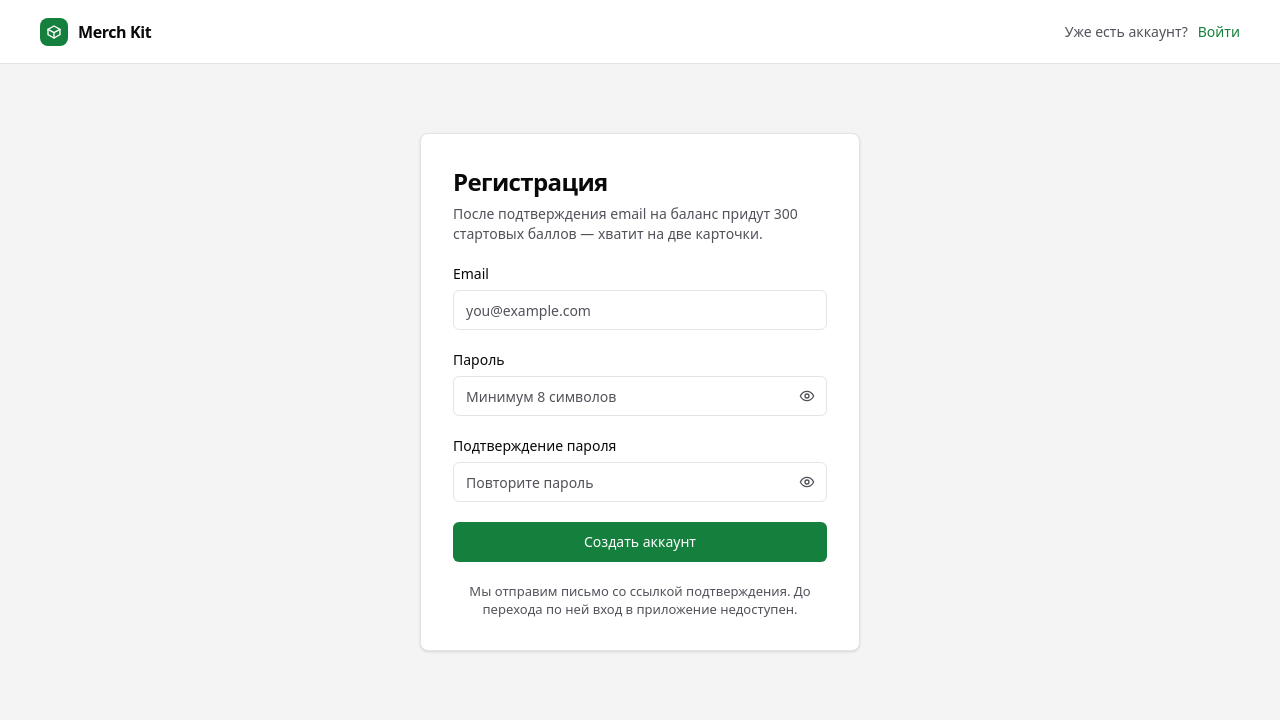
Test: Регистрация (US-02) › не отправляет форму, если подтверждение не совпадает с паролем
The width and height of the screenshot is (1280, 720).
Type "seller@example.com" into the field labelled "Email" at {"x": 640, "y": 310}, box [453,290,827,330]
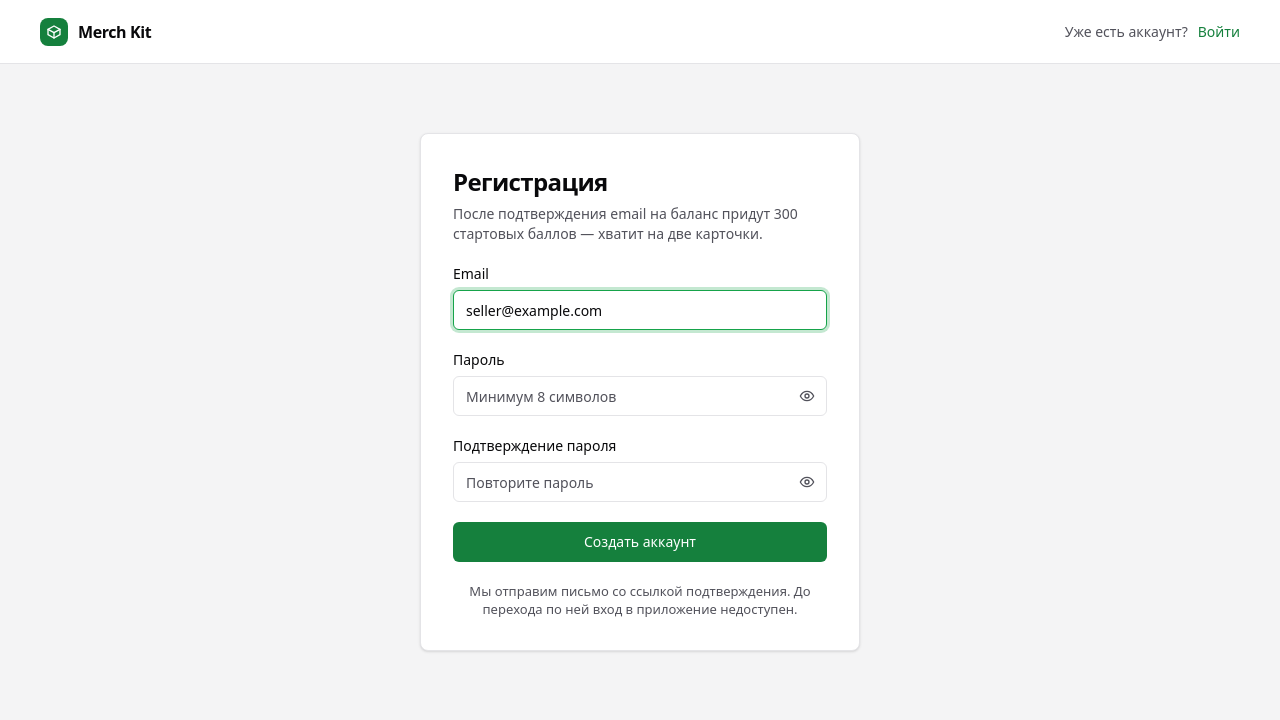
Type "password123" into the password field labelled "Пароль" at {"x": 640, "y": 396}, box [453,376,827,416]
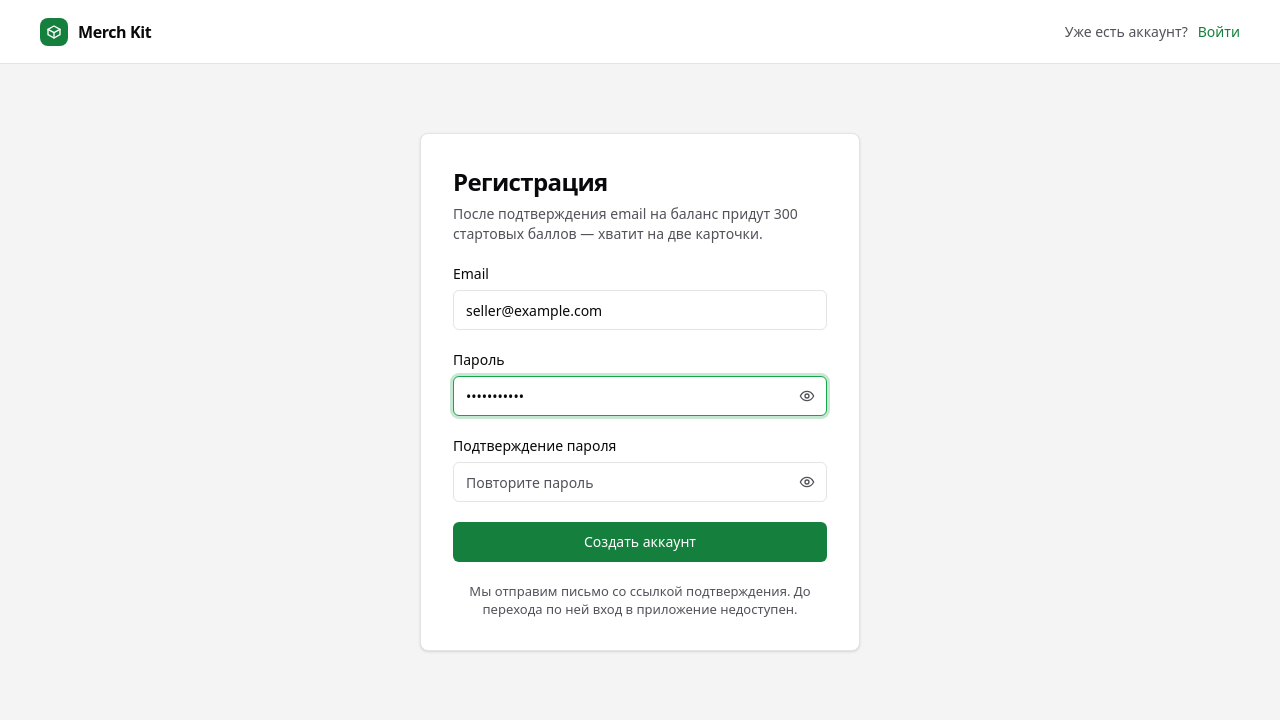
Type "password124" into the password field labelled "Подтверждение пароля" at {"x": 640, "y": 482}, box [453,462,827,502]
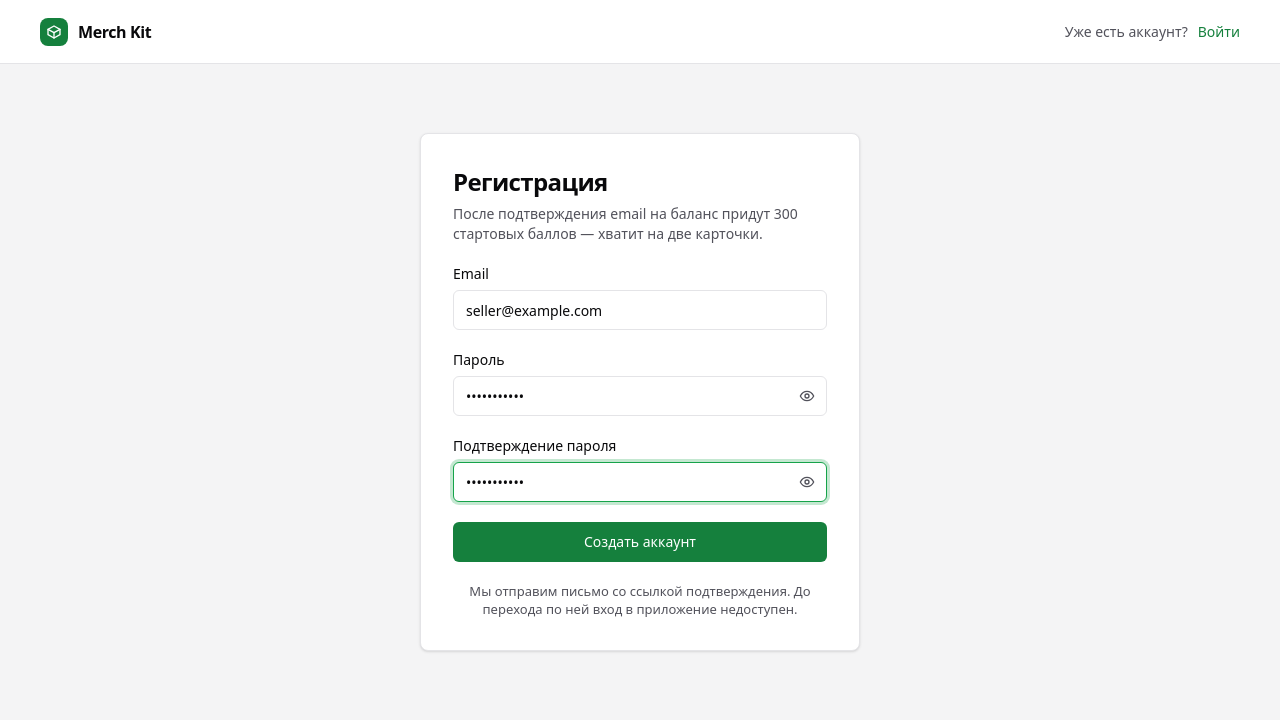
Click the button "Создать аккаунт" at {"x": 640, "y": 542}, box [453,522,827,562]
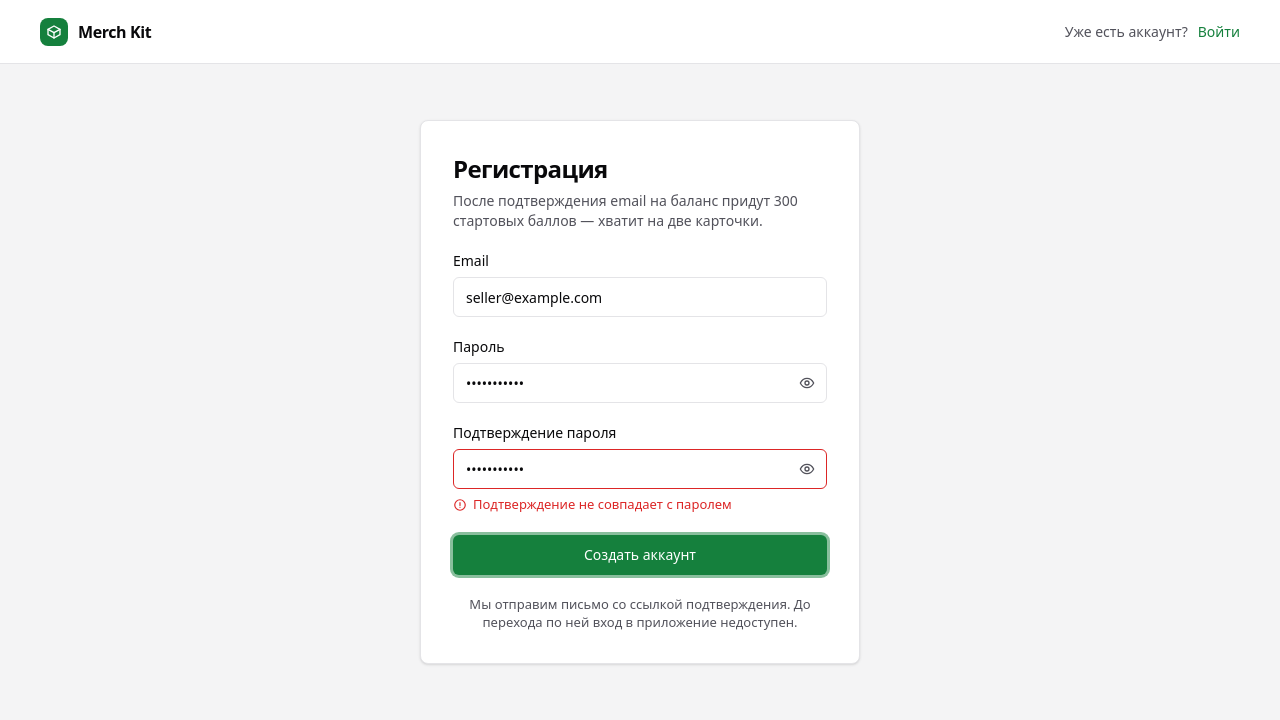
Now the text "Подтверждение не совпадает с паролем" is shown, box [473,495,732,515]
